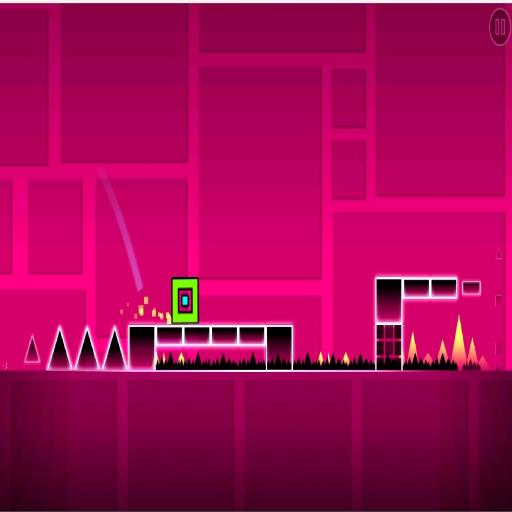block: (126, 318, 295, 379), (374, 271, 458, 378), (462, 278, 483, 298), (495, 340, 504, 359), (495, 295, 502, 307)
player: (169, 275, 200, 326)
spike: (102, 327, 126, 370), (47, 327, 71, 369), (75, 329, 99, 369), (452, 316, 467, 369), (25, 336, 40, 364), (408, 333, 418, 362), (468, 338, 477, 364), (438, 340, 447, 362), (479, 357, 489, 369), (343, 353, 350, 365), (424, 354, 432, 364), (178, 353, 184, 364), (154, 353, 159, 366), (319, 352, 323, 365), (496, 249, 501, 259), (328, 353, 330, 364), (163, 354, 165, 364)
